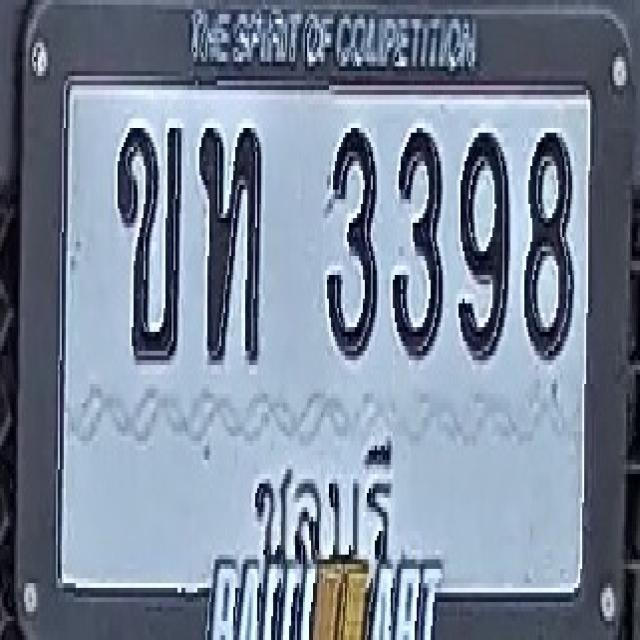3: (326, 126, 376, 358), (392, 126, 442, 358)
8: (524, 126, 574, 358)
9: (458, 128, 508, 360)
A02: (116, 121, 182, 363)
A23: (200, 124, 262, 360)
CBI: (250, 418, 397, 580)
